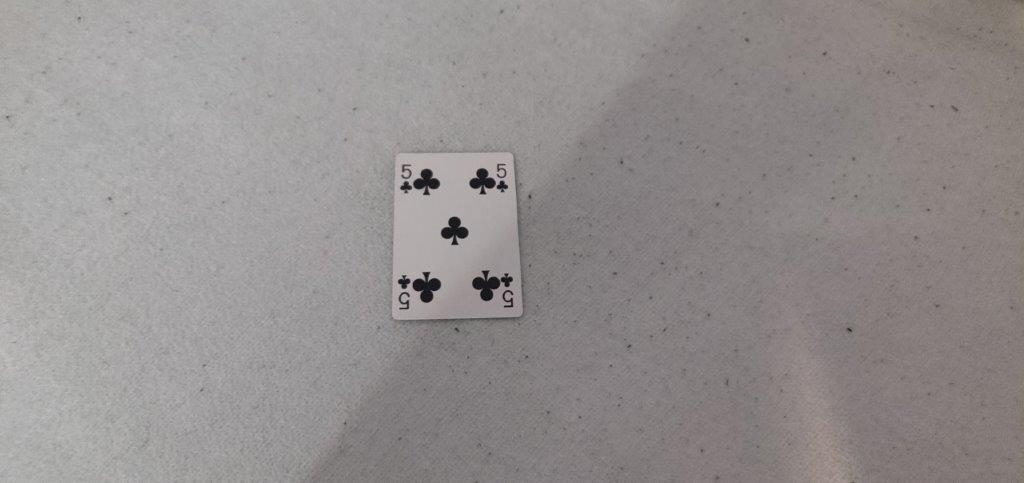5C: (492, 159, 514, 195), (397, 160, 416, 197)
